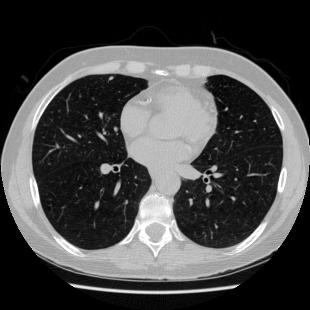nodule: (108, 76, 112, 80)
